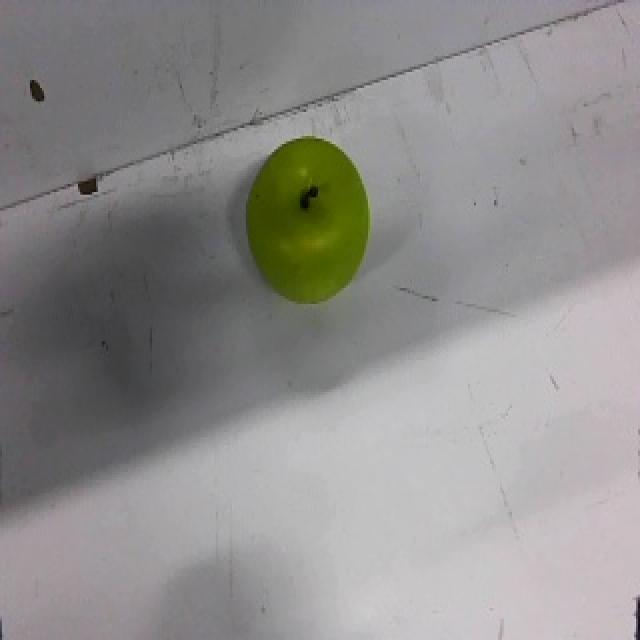apple: (244, 135, 371, 304)
